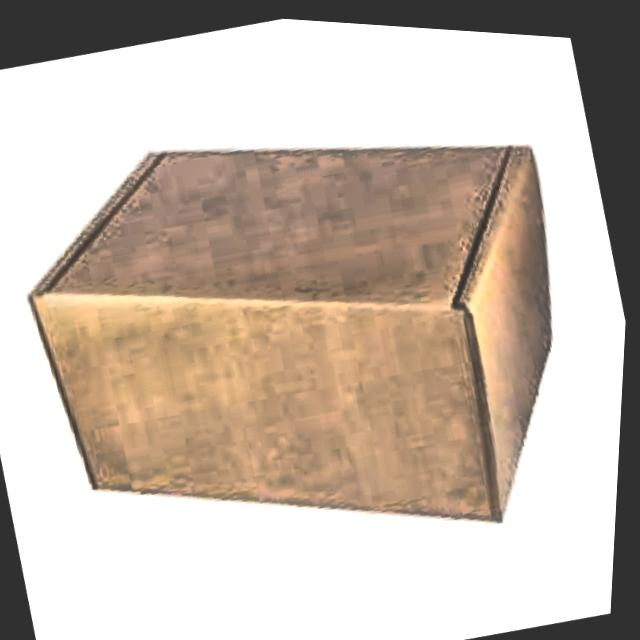Cardbox: (0, 35, 639, 640)
